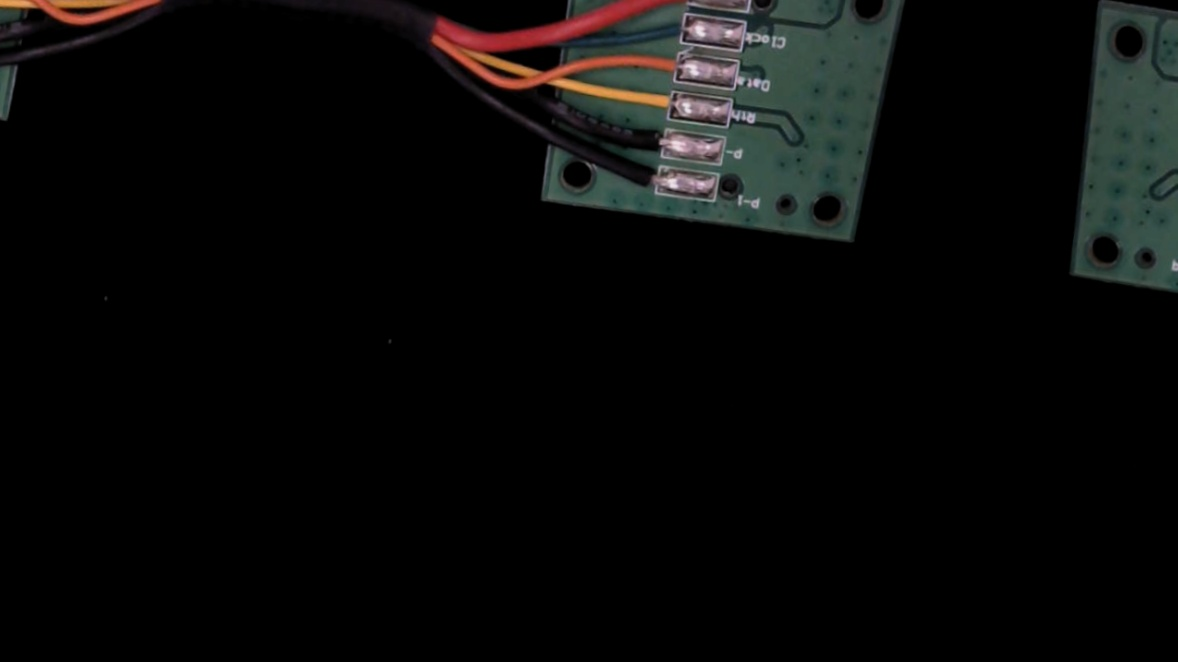Black: (611, 119, 686, 162)
Black1: (608, 158, 678, 200)
Green: (637, 6, 710, 49)
Orange: (625, 43, 699, 84)
Red: (639, 0, 711, 9)
Yellow: (615, 81, 691, 125)
